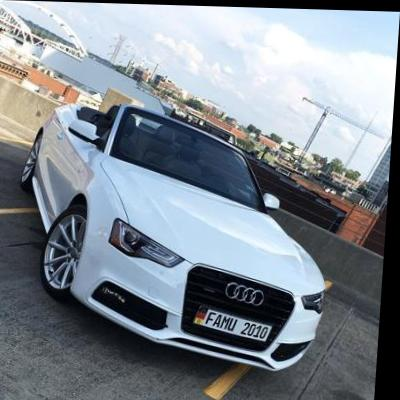License_Plate: (199, 306, 274, 345)
